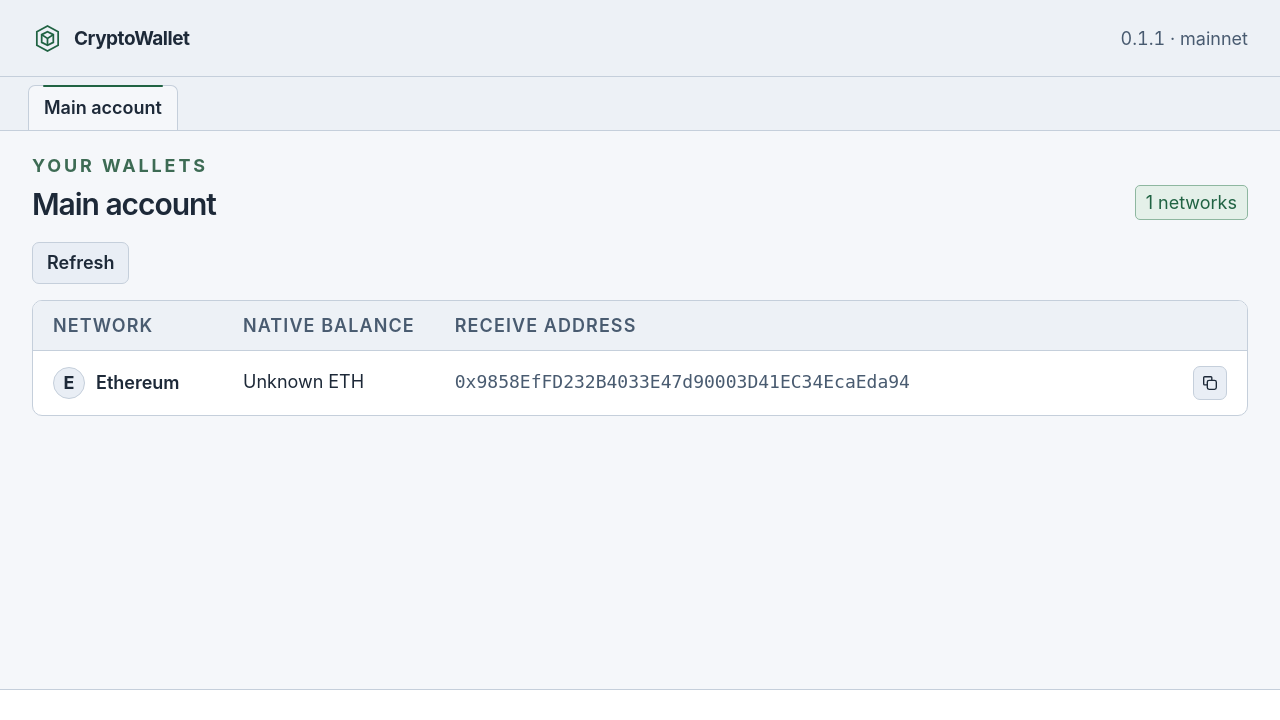
it: direct copying of displayed public receive addresses › does not require an available wallet bridge to copy already displayed public data
Click the button named "Copy receive address": (1210, 383) [1193,366,1227,400]
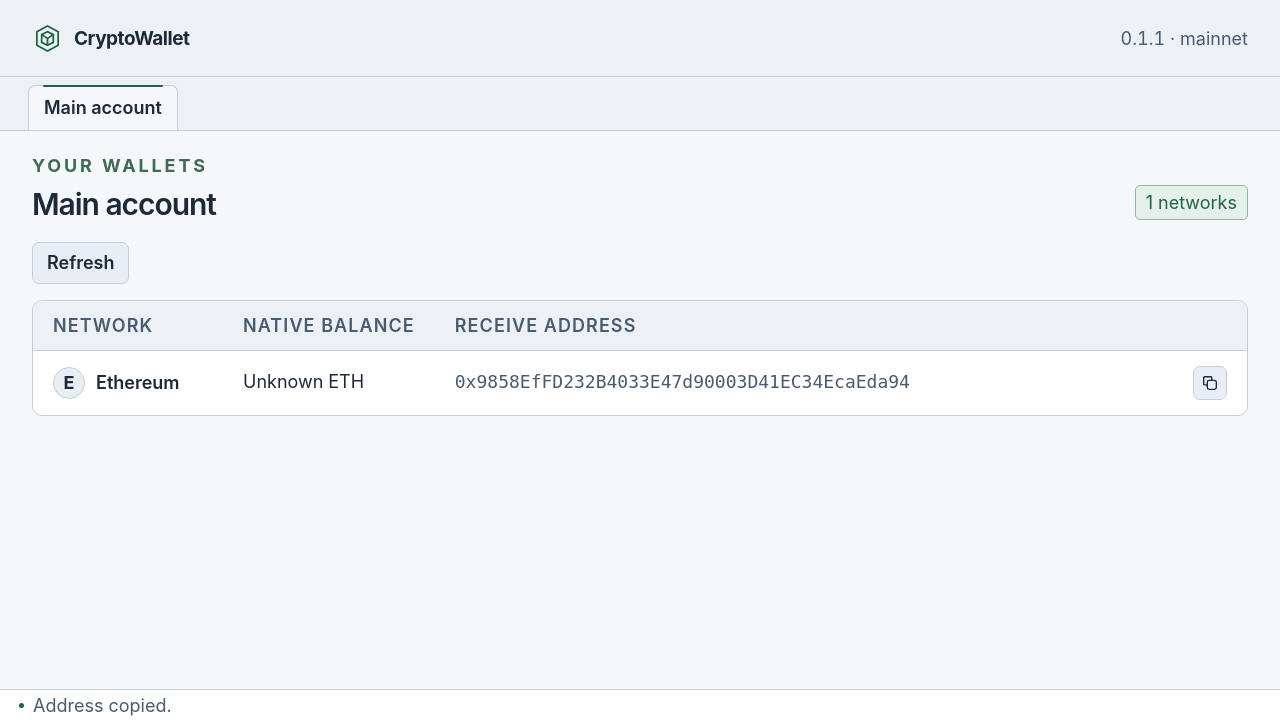
Now the footer with class "status-bar" reads "Address copied.", box [33,694,172,716]
